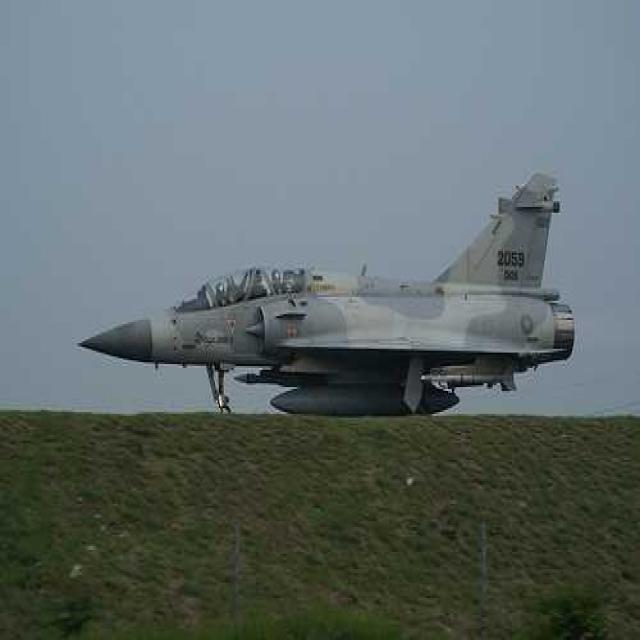missile: (269, 379, 460, 431)
